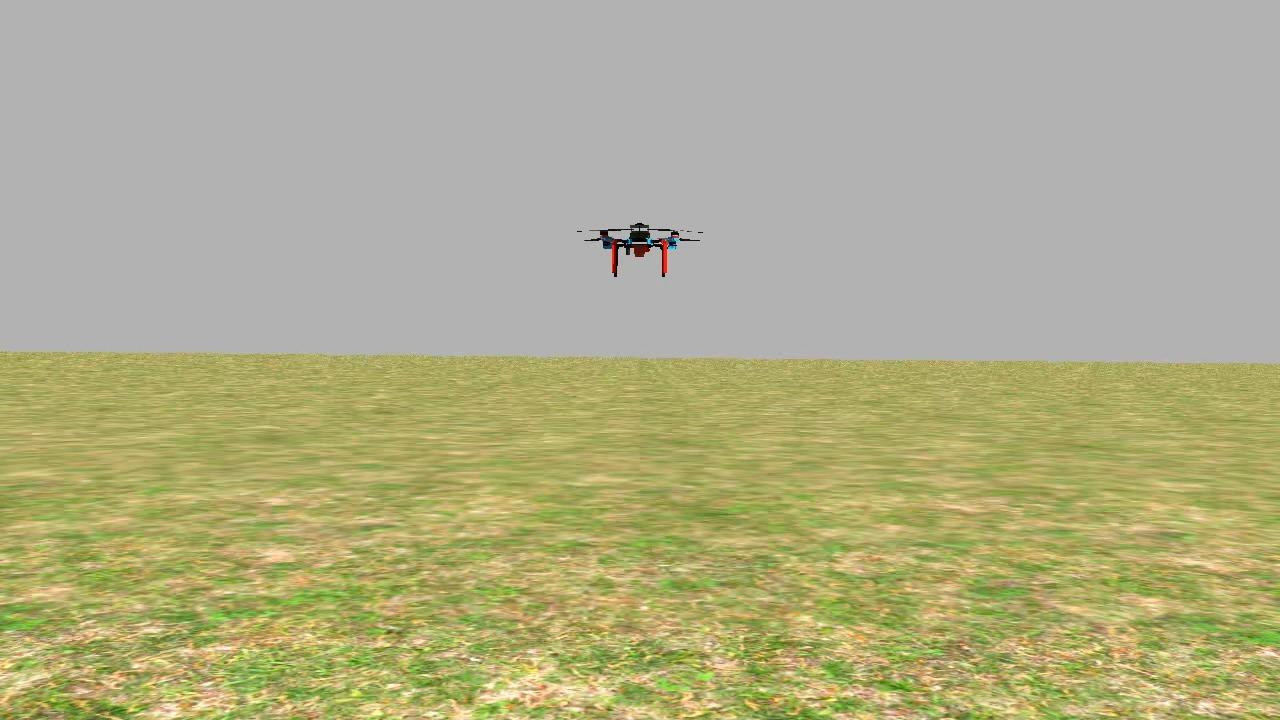UAV: (590, 214, 700, 286)
